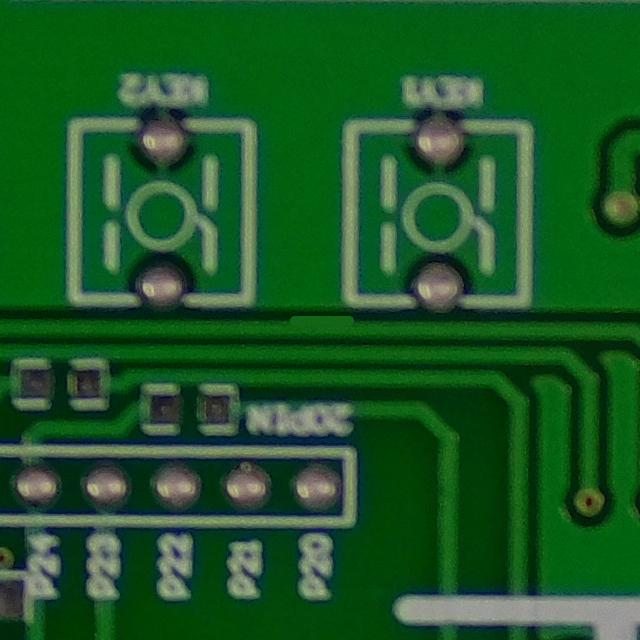spur: (277, 301, 364, 340)
